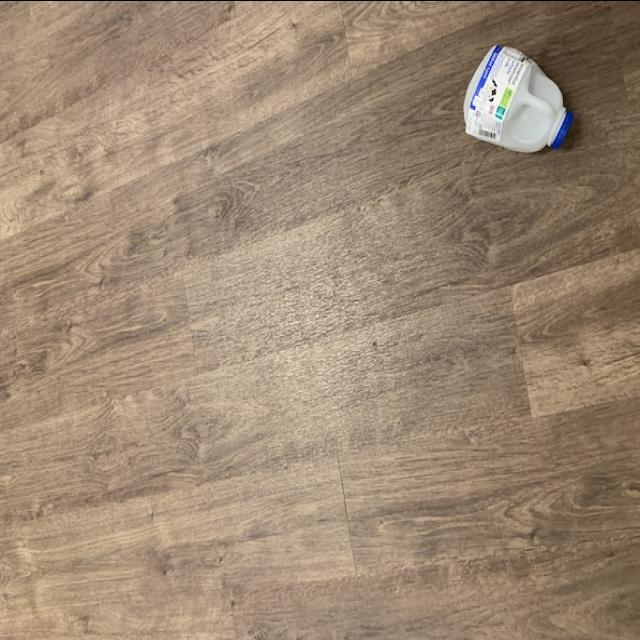HDPEM: (461, 40, 580, 156)
